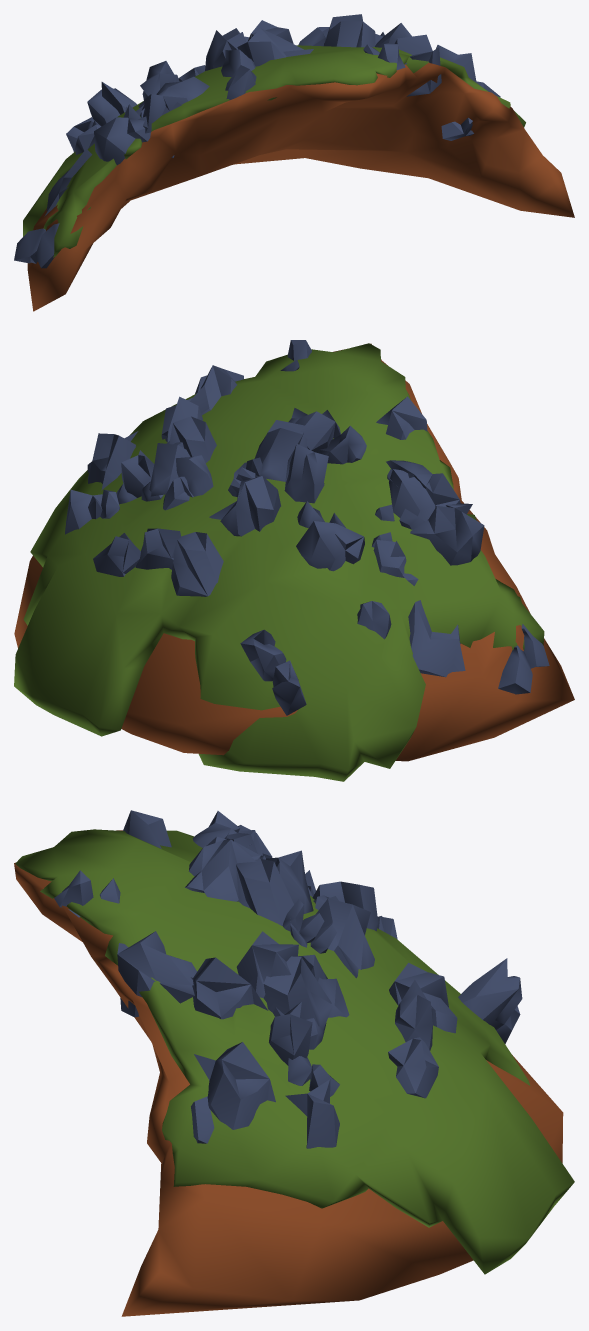
The model's file is eff_lod_excavationmountain.fbx.
3 renders of one model, top to bottom at view 1: azimuth 30°, elevation 25°; view 2: azimuth 150°, elevation 25°; view 3: azimuth 270°, elevation 25°, orthographic. The views are drawn at different scales.
Parts seen in each view (by area): view 1: mountain_dirt.001, mountain_rocks.001, mountain_grass.001; view 2: mountain_grass.001, mountain_rocks.001, mountain_dirt.001; view 3: mountain_grass.001, mountain_rocks.001, mountain_dirt.001.
Boxes of the visible parts, x1=… form: mountain_dirt.001: x1=27, y1=62, x2=574, y2=311; mountain_rocks.001: x1=14, y1=14, x2=500, y2=268; mountain_grass.001: x1=23, y1=45, x2=525, y2=257; mountain_grass.001: x1=14, y1=343, x2=544, y2=781; mountain_rocks.001: x1=65, y1=340, x2=549, y2=715; mountain_dirt.001: x1=14, y1=343, x2=574, y2=761; mountain_grass.001: x1=15, y1=829, x2=574, y2=1274; mountain_rocks.001: x1=54, y1=810, x2=522, y2=1148; mountain_dirt.001: x1=14, y1=830, x2=563, y2=1316.
Size of the model in its own units: 2490 by 1203 by 1788.
